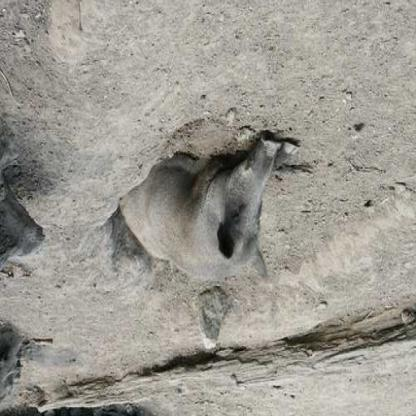boar: (109, 98, 314, 308)
